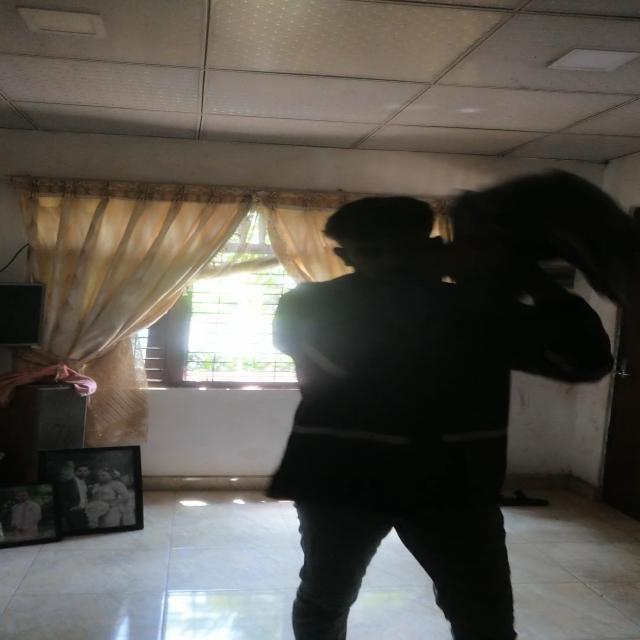Jacket_Wearer: (264, 268, 607, 529)
Person: (264, 188, 606, 640)
